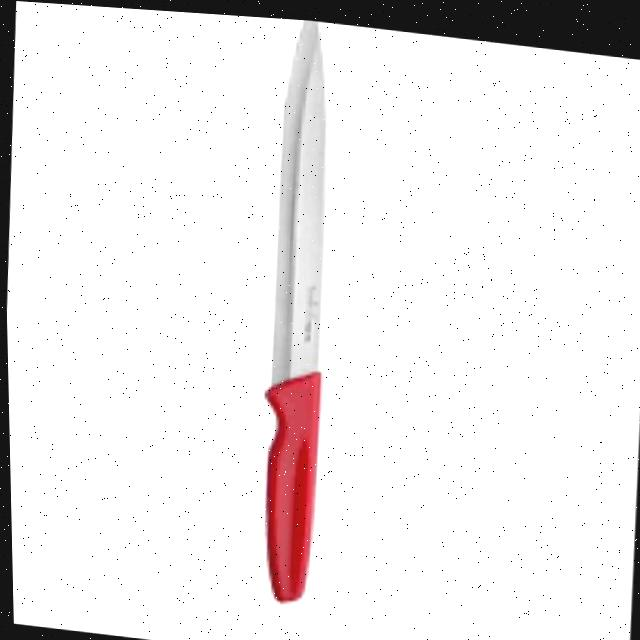knife: (242, 13, 343, 604)
